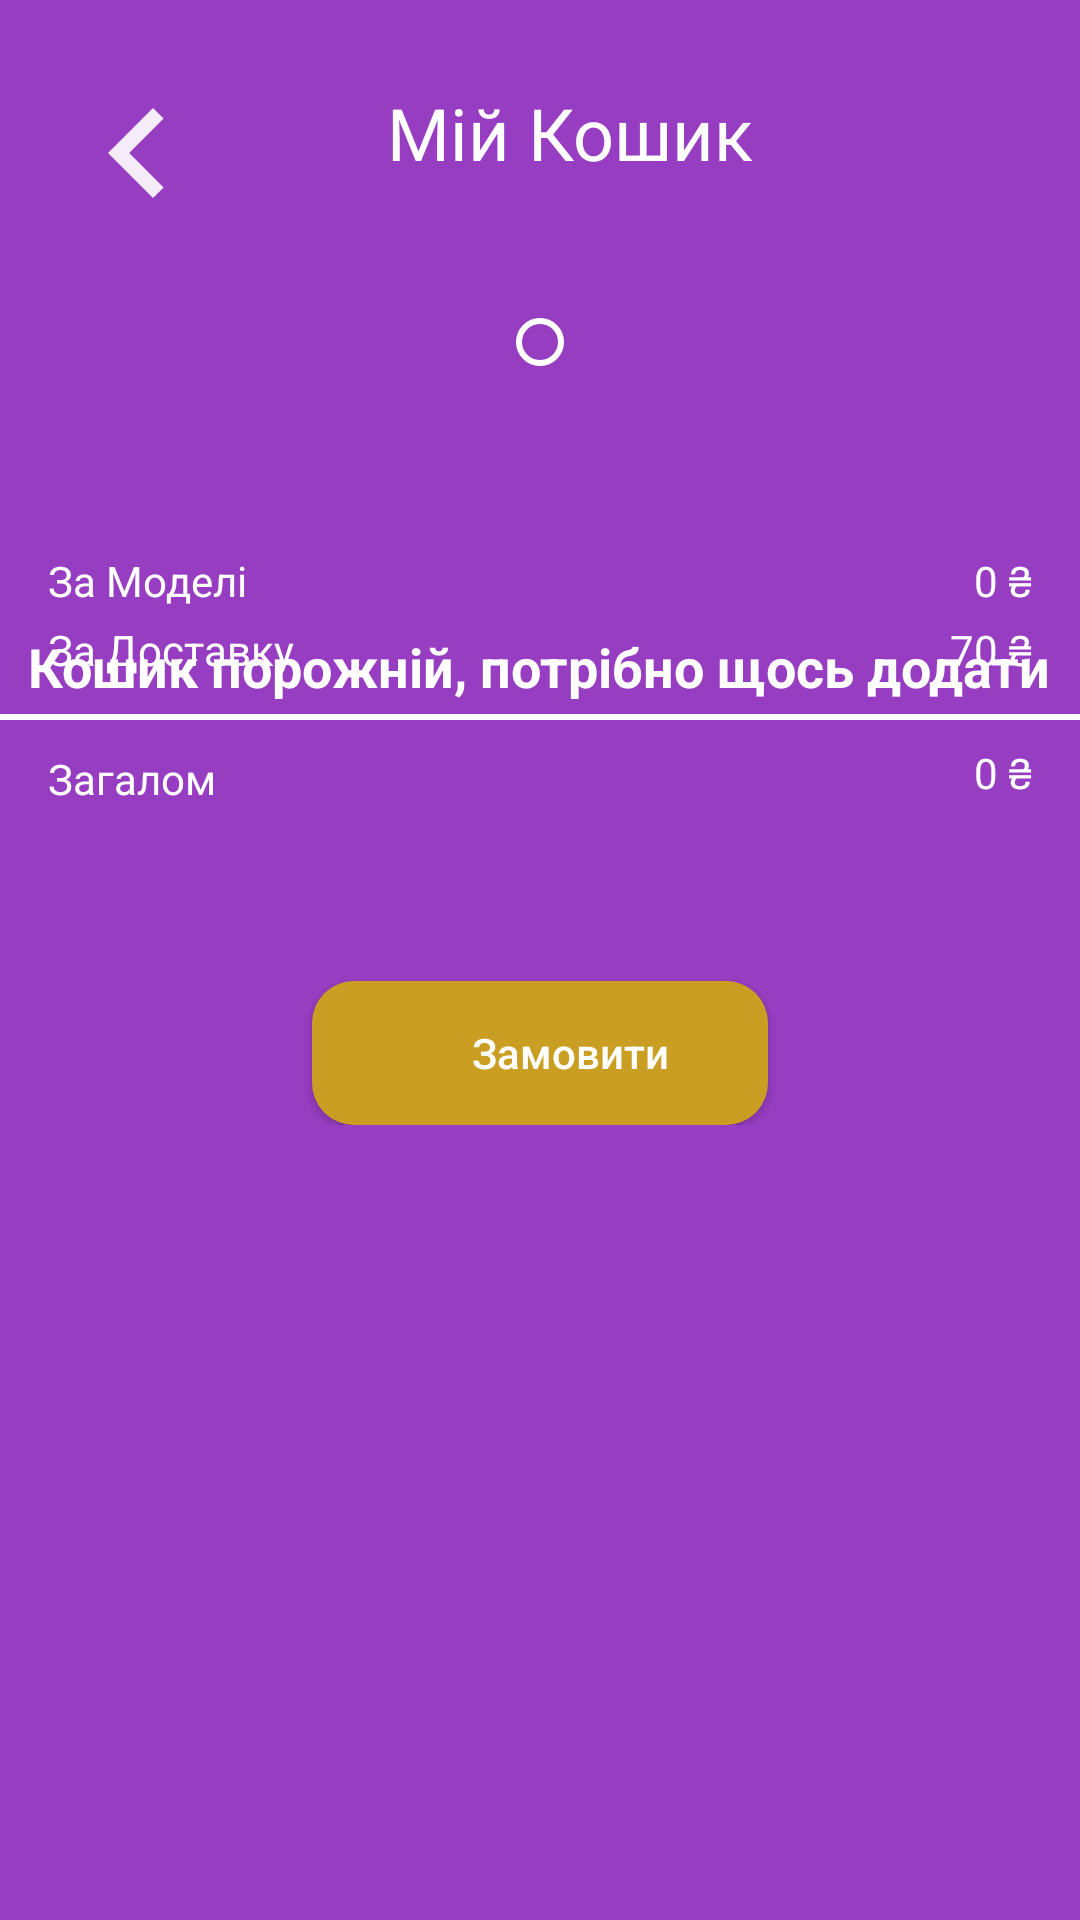

Where icons sit on this 1080x1920 app screen, as (x1, y1, x2, y2):
keyboard arrow left: (108, 108, 164, 198)
